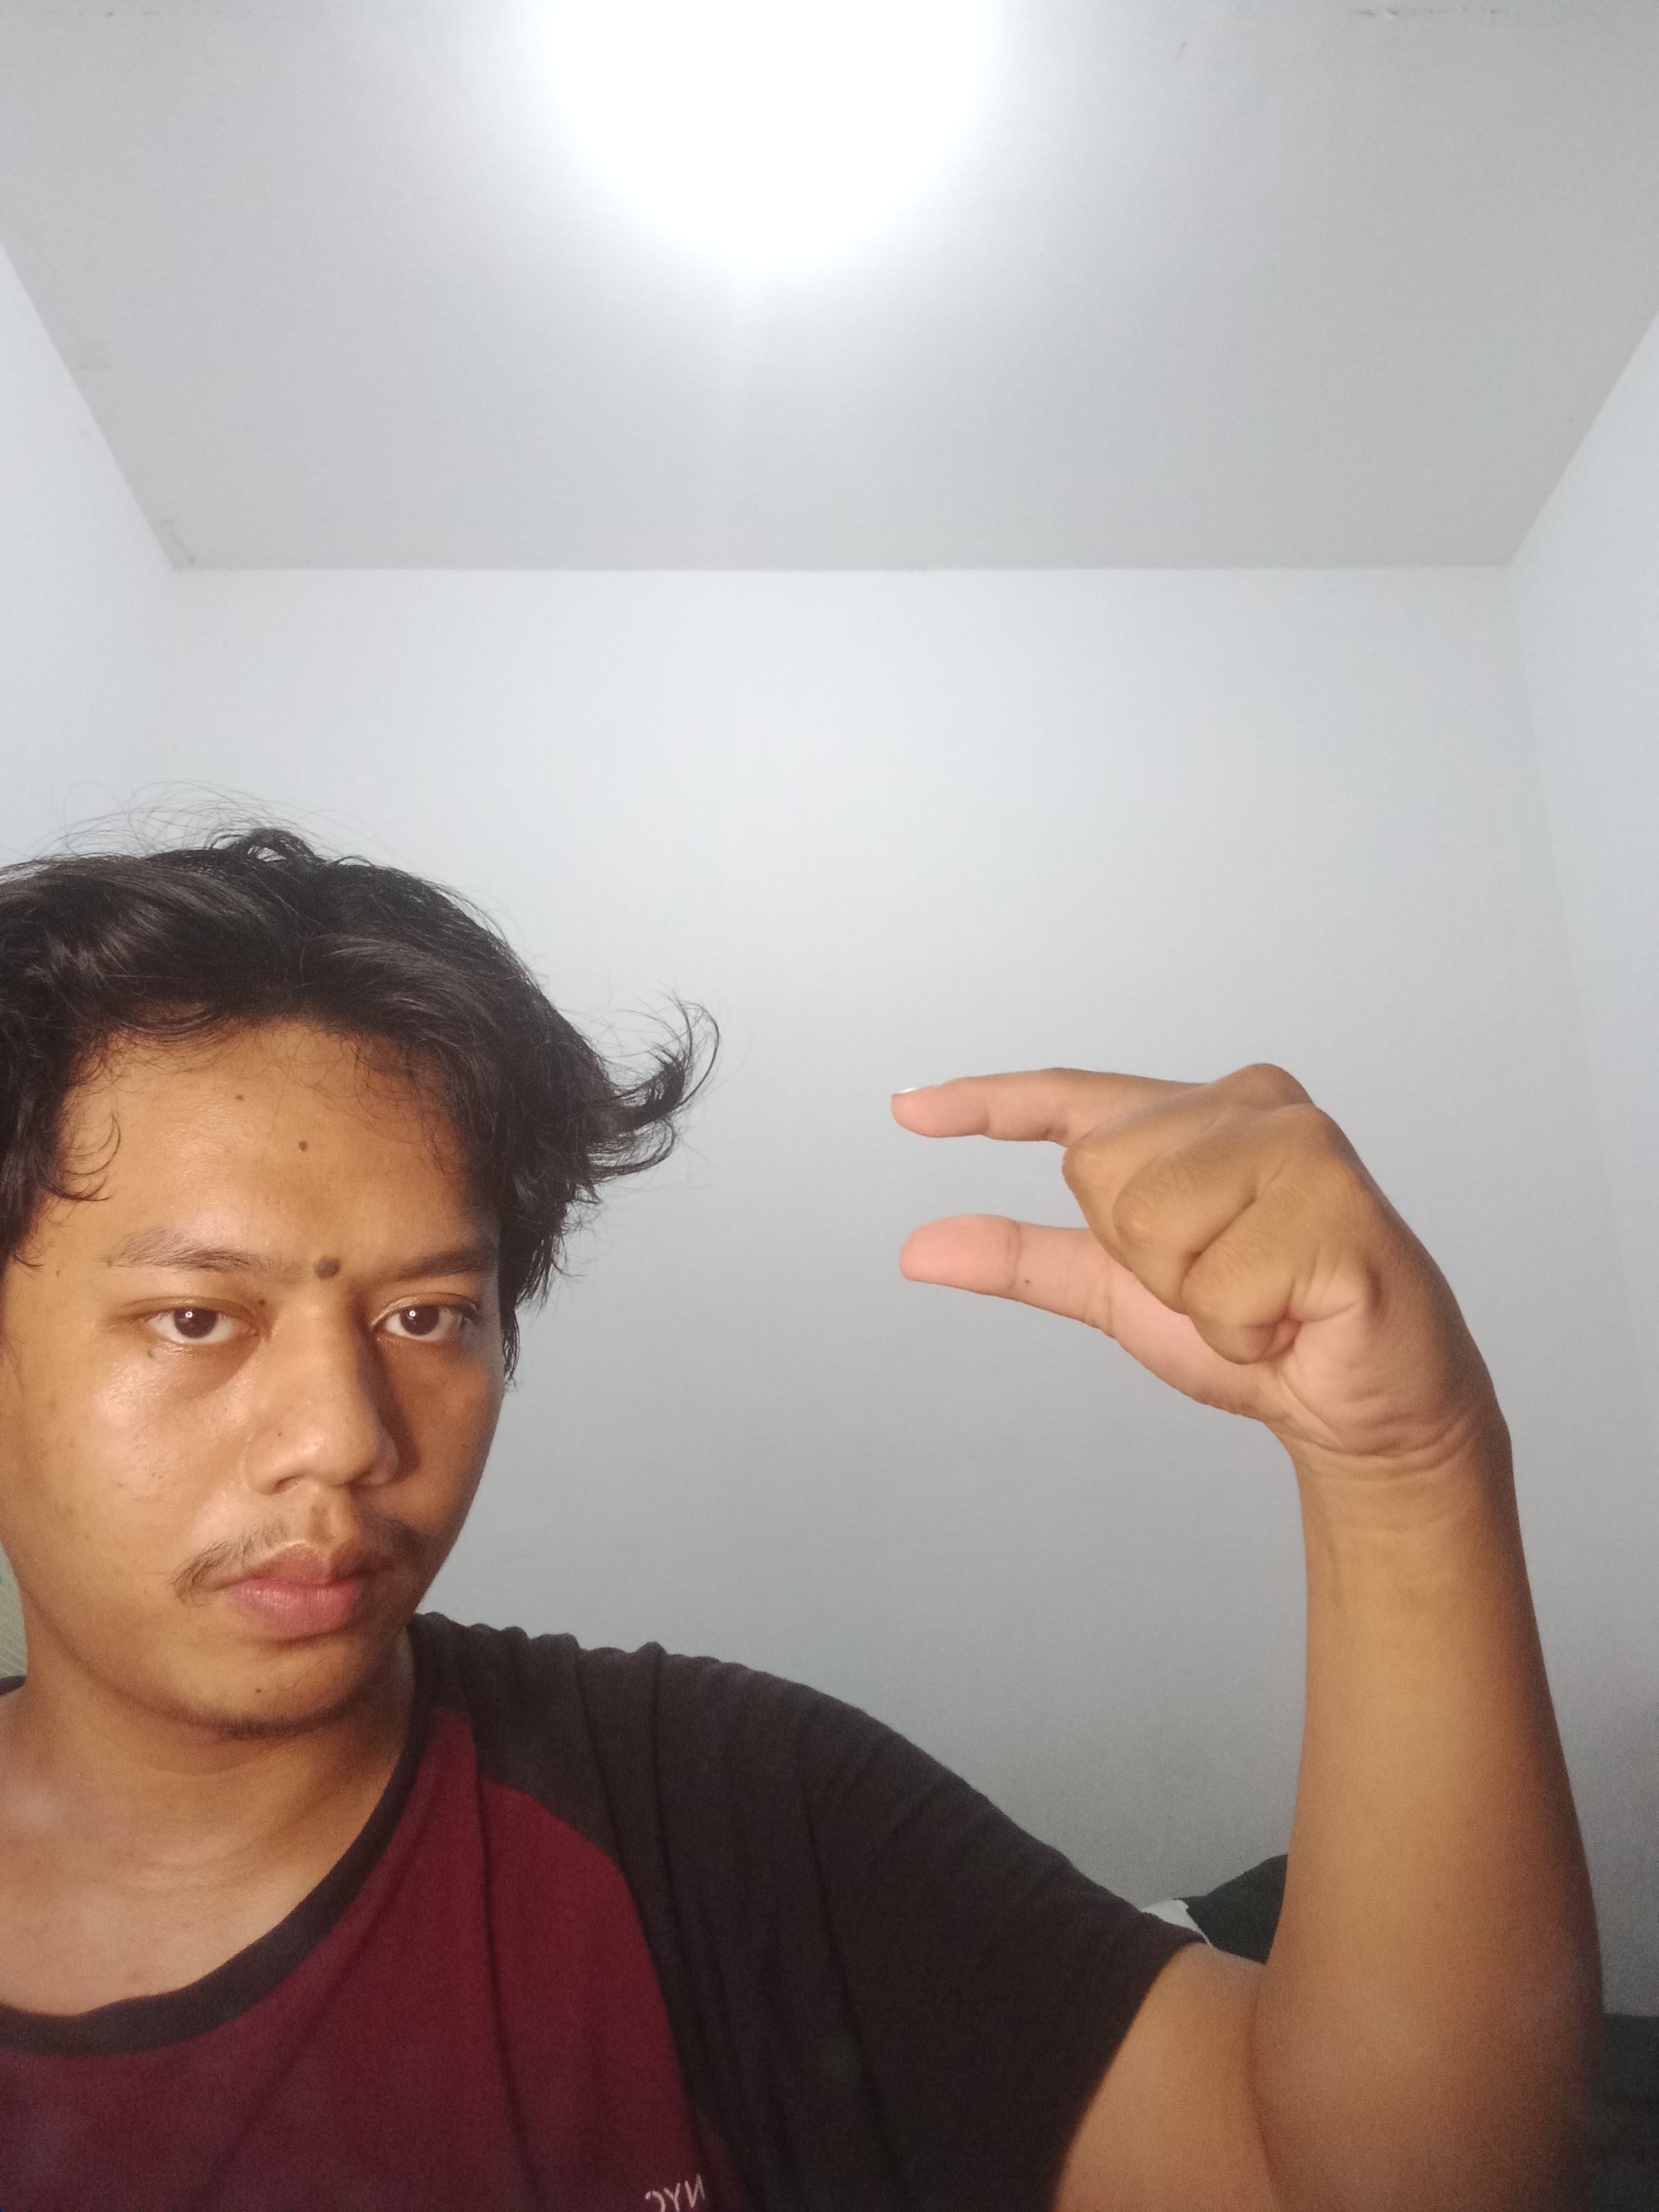G: (871, 1049, 1556, 1479)
